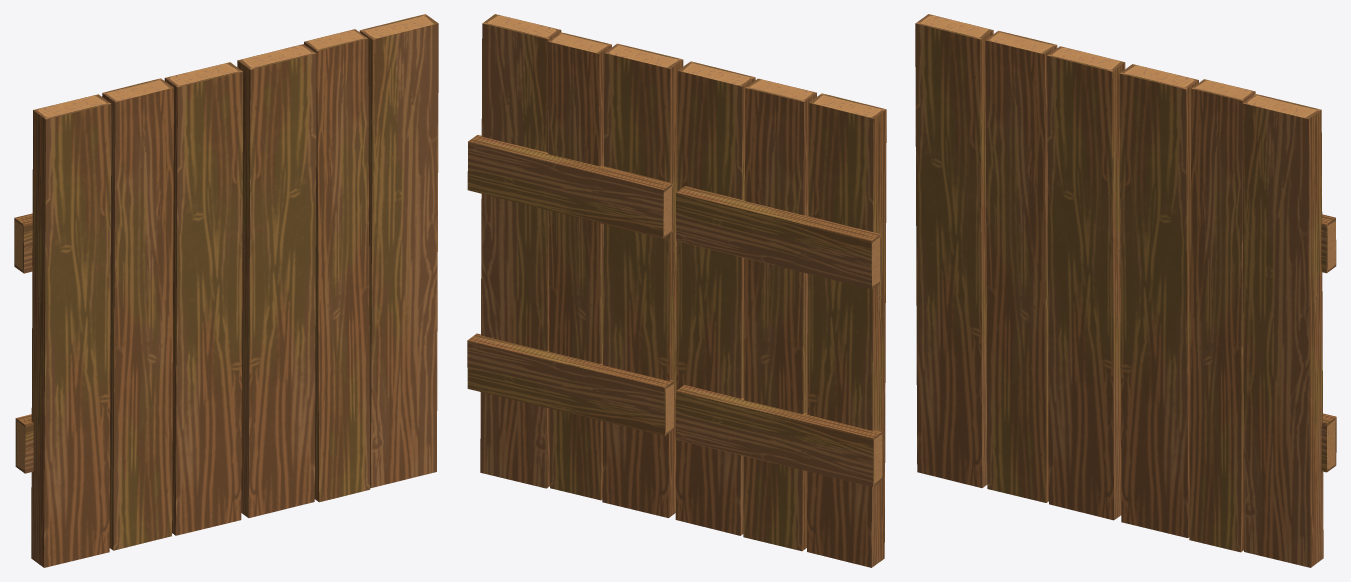
Rendered from WindowShutters_Wide_Flat_Closed.gltf.
3 views of the same model, side by side, from view 1: azimuth 30°, elevation 25°; view 2: azimuth 150°, elevation 25°; view 3: azimuth 330°, elevation 25° (orthographic).
Parts seen in each view (by area): view 1: WindowShutters_Wide_Flat_Closed; view 2: WindowShutters_Wide_Flat_Closed; view 3: WindowShutters_Wide_Flat_Closed.
Part boxes in pixels (x1,y1,x2,y2): WindowShutters_Wide_Flat_Closed: [14, 14, 438, 567]; WindowShutters_Wide_Flat_Closed: [467, 14, 886, 567]; WindowShutters_Wide_Flat_Closed: [915, 14, 1336, 567].
Size of the model in its own units: 1.35 by 1.42 by 0.1358.
1 material, 1 textured.
